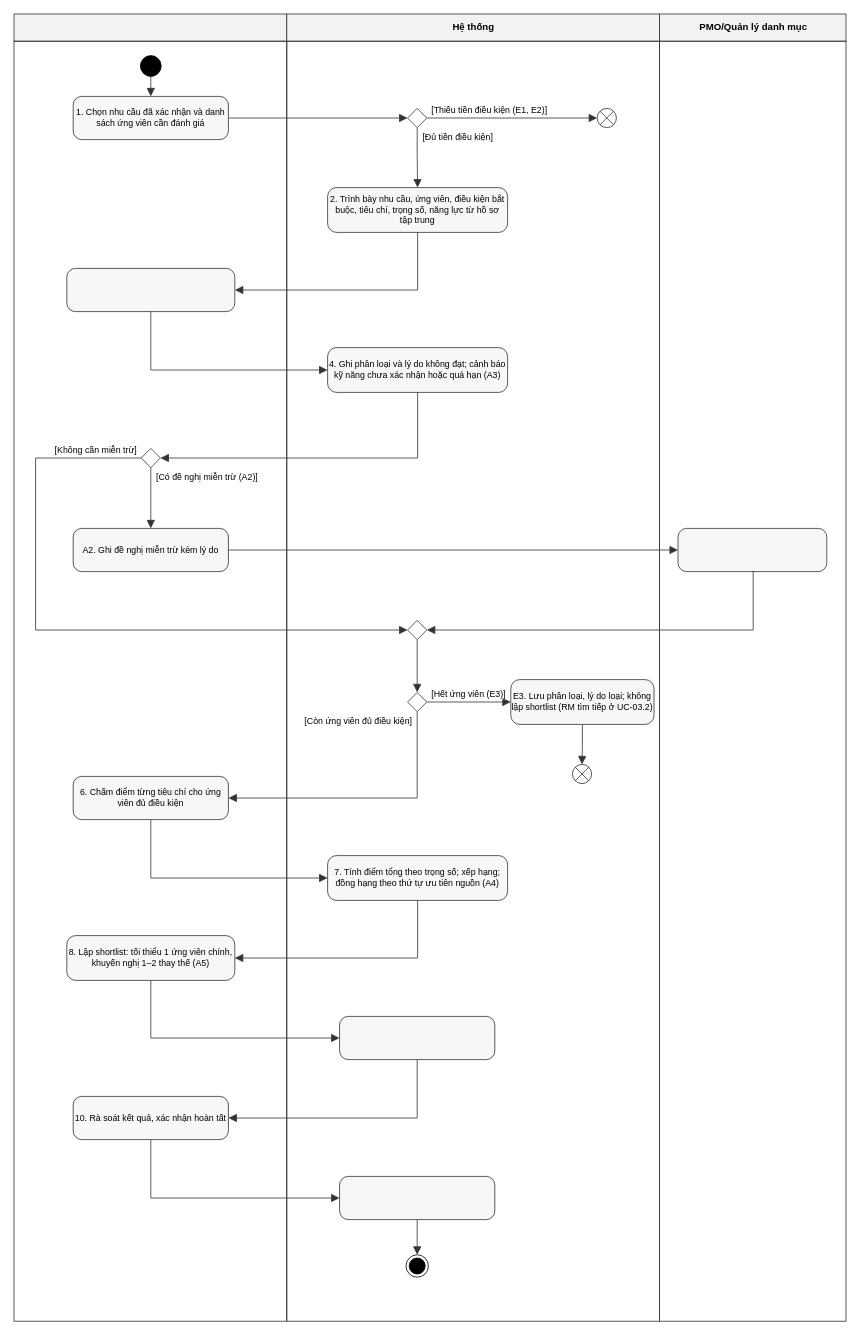
Some shapes in this 860 by 1335 pixel diagram are drawn without their labels. Here are the shapes that lost their labels. From the top down, the centre of each, then its label:
[150,27]: RM
[150,290]: 3. Đối chiếu điều kiện bắt buộc; loại ứng viên xung đột lợi ích (A1)
[752,550]: A2. Phê duyệt hoặc từ chối đề nghị miễn trừ
[417,1038]: 9. Hiển thị mức đáp ứng và khoảng thiếu năng lực
[417,1198]: 11. Lưu tiêu chí, trọng số, điểm, thứ hạng và shortlist
